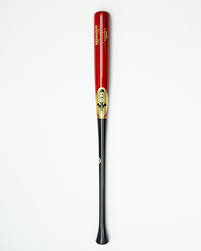bat: (92, 10, 110, 245)
